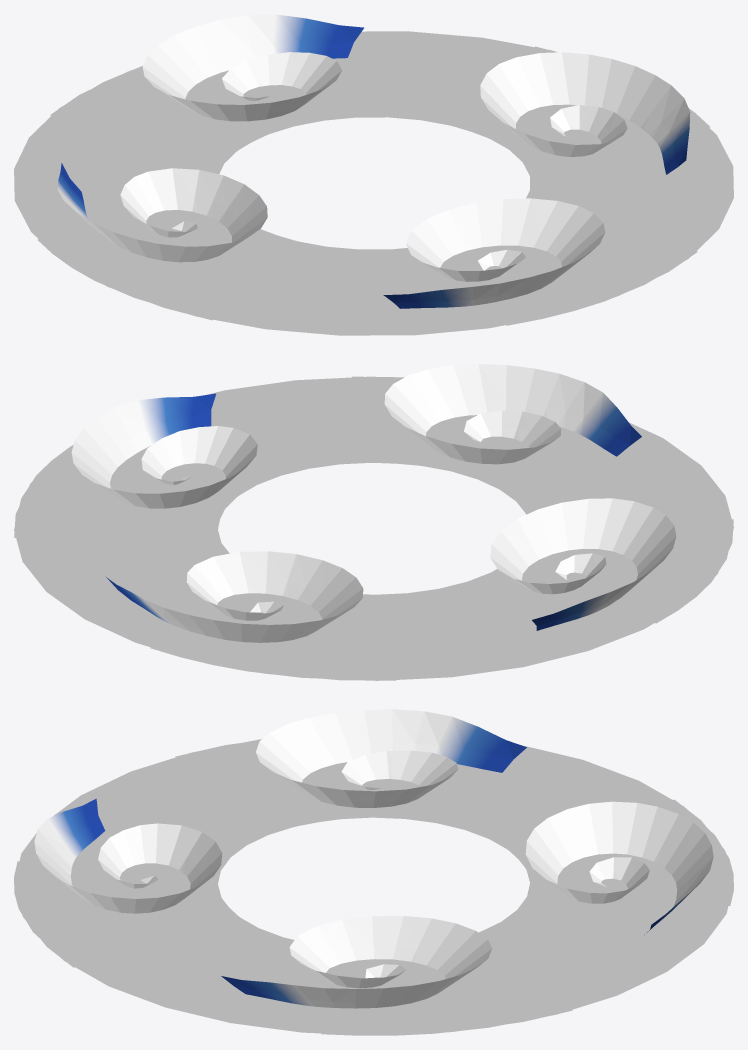
Rendered from pref_fx_Marill_spell02A_bullet_lv1.fbx.
3 views of the same model, one above another, from view 1: azimuth 30°, elevation 25°; view 2: azimuth 150°, elevation 25°; view 3: azimuth 270°, elevation 25° (orthographic).
Visible parts, largest first — view 1: GameObject (2), GameObject; view 2: GameObject (2), GameObject; view 3: GameObject (2), GameObject.
Boxes of the visible parts, bbox=[...] form: GameObject (2): bbox=[14, 31, 733, 335]; GameObject: bbox=[57, 14, 690, 308]; GameObject (2): bbox=[14, 376, 733, 680]; GameObject: bbox=[71, 364, 676, 642]; GameObject (2): bbox=[14, 739, 733, 1035]; GameObject: bbox=[34, 709, 713, 1008].
Bounding box in the file's own units: 5.6 × 0.4092 × 5.6.
